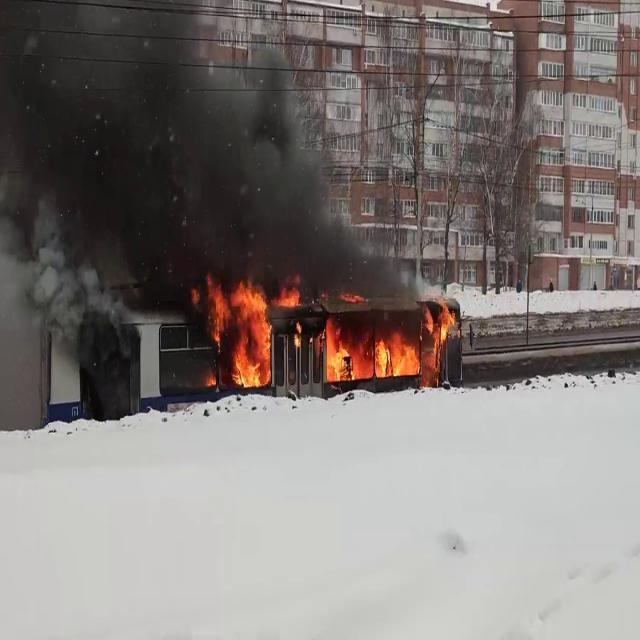Fire: (319, 305, 460, 383), (205, 278, 275, 390)
Smoke: (0, 21, 418, 308)
